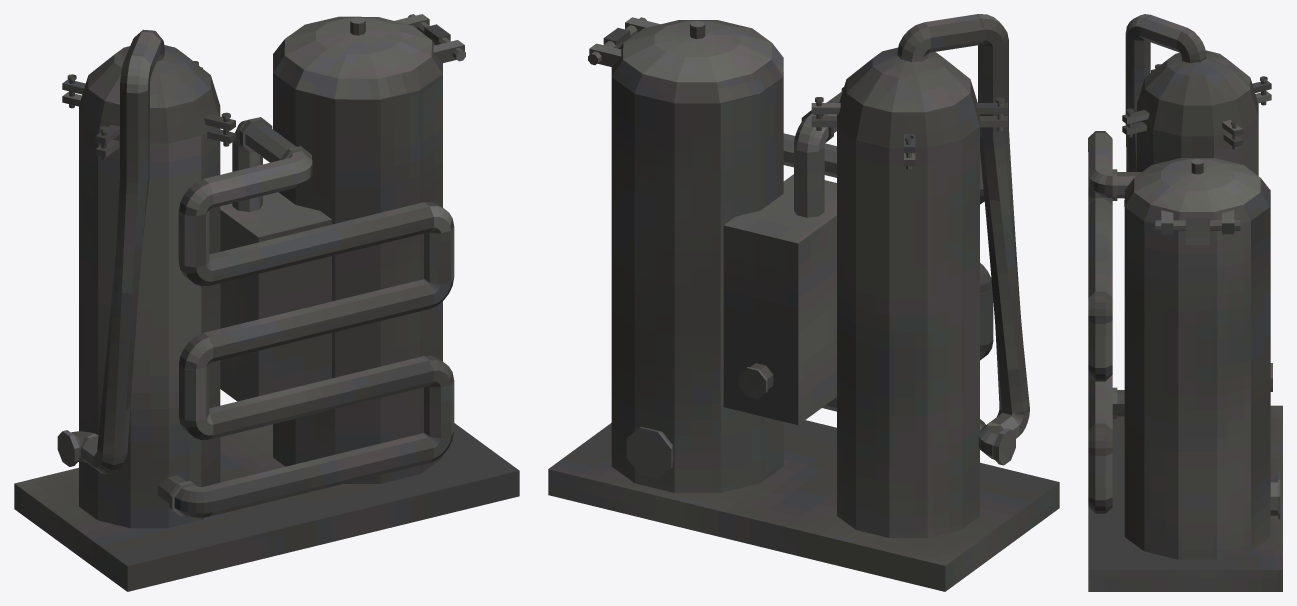
Rendered from tinyboi.obj.
The picture shows the model from 3 angles, left to right: view 1: azimuth 30°, elevation 25°; view 2: azimuth 150°, elevation 25°; view 3: azimuth 270°, elevation 25°; orthographic projection. The views are drawn at different scales.
Visible parts, largest first — view 1: firebox_blue, piping1_blue, gas-filter_blue, gasifier-base_blue, piping2_, condenser_blue; view 2: gas-filter_blue, firebox_blue, gasifier-base_blue, condenser_blue, piping2_, piping1_blue; view 3: firebox_blue, gas-filter_blue, gasifier-base_blue, piping1_blue, piping2_.
Part boxes in pixels (left/top/right/bottom): firebox_blue: left=273, top=14, right=465, bottom=483; piping1_blue: left=174, top=117, right=454, bottom=517; gas-filter_blue: left=62, top=45, right=235, bottom=528; gasifier-base_blue: left=14, top=423, right=519, bottom=591; piping2_: left=57, top=29, right=164, bottom=474; condenser_blue: left=220, top=192, right=331, bottom=401; gas-filter_blue: left=811, top=47, right=1007, bottom=537; firebox_blue: left=588, top=17, right=783, bottom=492; gasifier-base_blue: left=548, top=420, right=1059, bottom=591; condenser_blue: left=723, top=174, right=836, bottom=424; piping2_: left=897, top=14, right=1029, bottom=465; piping1_blue: left=783, top=87, right=993, bottom=427; firebox_blue: left=1124, top=158, right=1280, bottom=559; gas-filter_blue: left=1112, top=50, right=1271, bottom=418; gasifier-base_blue: left=1088, top=405, right=1282, bottom=591; piping1_blue: left=1088, top=131, right=1141, bottom=513; piping2_: left=1125, top=14, right=1206, bottom=171.
Bounding box in the file's own units: 0.0202 × 0.0244 × 0.01.
